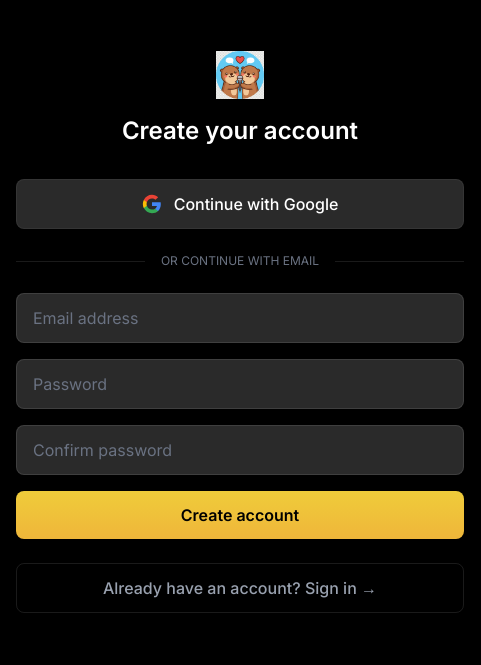
it: SignUpPage › handles firebase signup errors
Type "test@example.com" into the field with placeholder "Email address".
click(240, 318); type("test@example.com")  # box [16,293,464,343]
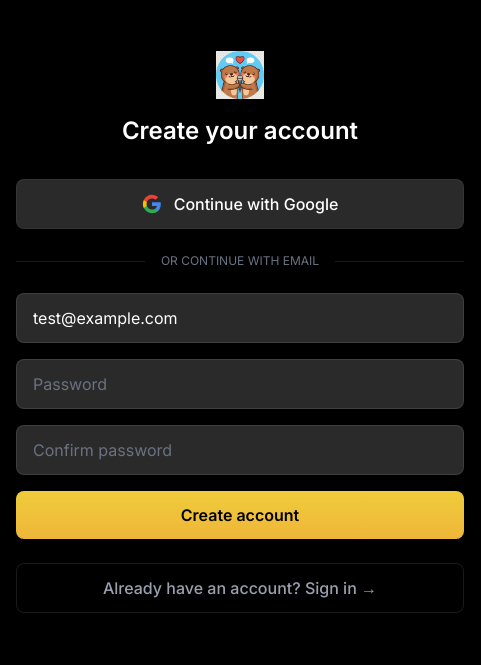
Type "password123" into the password field with placeholder "Password".
click(240, 384); type("password123")  # box [16,359,464,409]
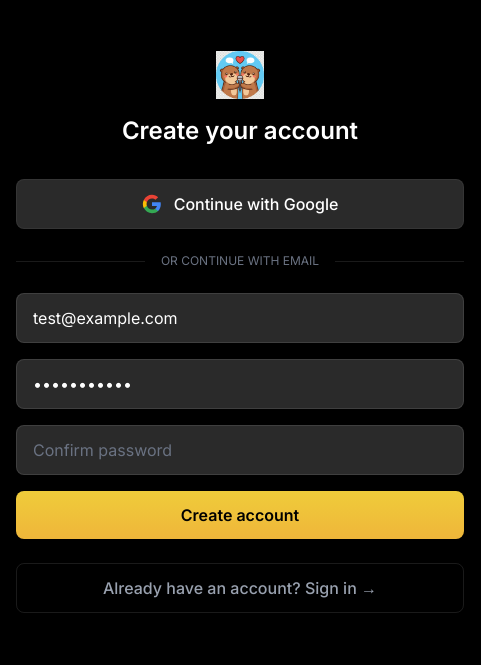
Type "password123" into the password field with placeholder "Confirm password".
click(240, 450); type("password123")  # box [16,425,464,475]
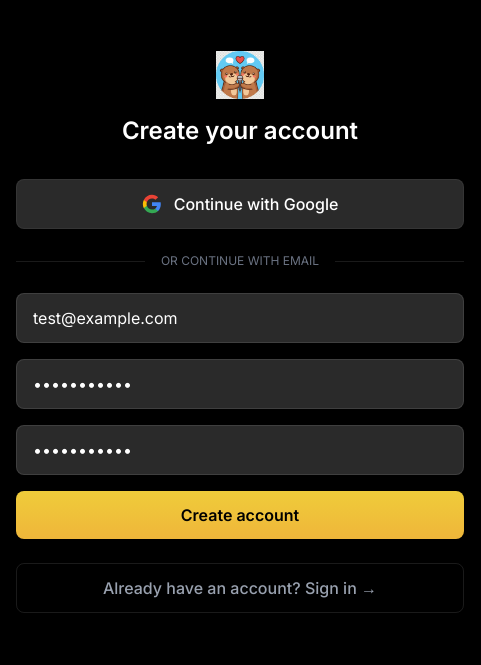
Click the button "Create account".
click(240, 515)  # box [16,491,464,539]
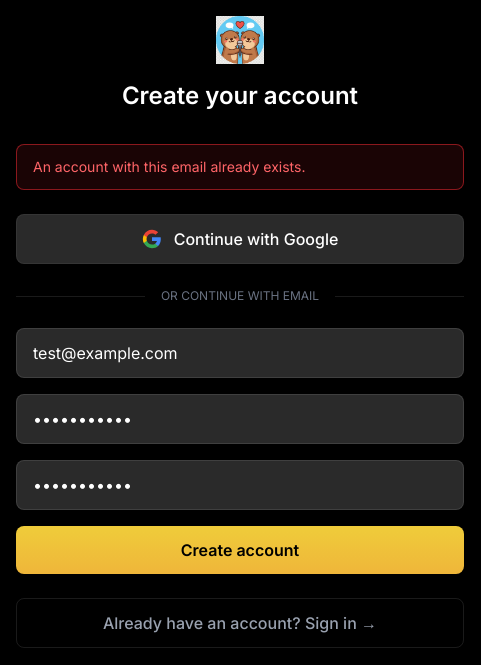
Check: the text "An account with this email already exists." is shown, box [16,144,464,190]
